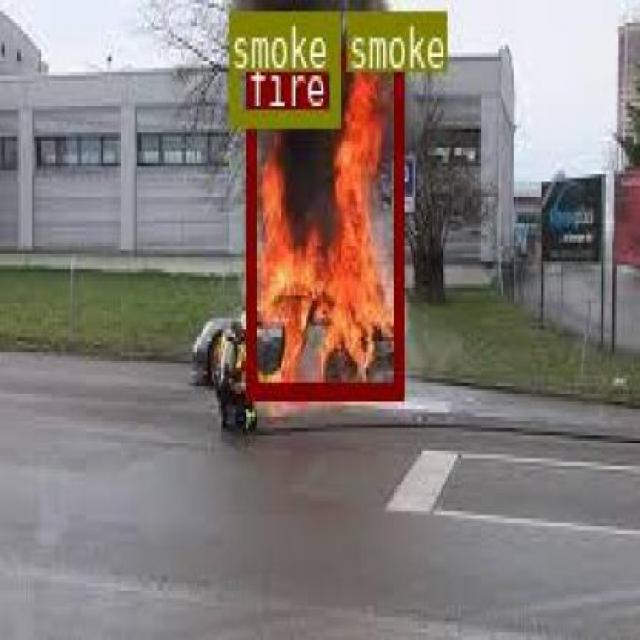fire: (244, 48, 400, 394)
smoke: (229, 8, 337, 124), (346, 9, 388, 63)
